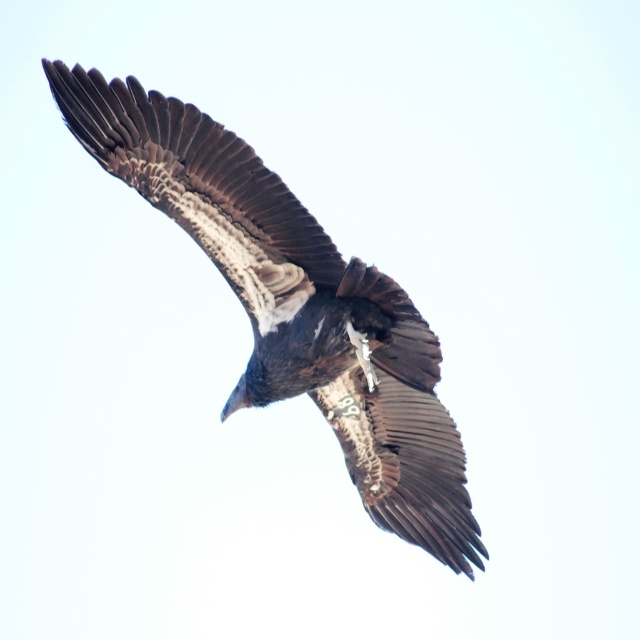Eagle: (41, 56, 489, 581)
